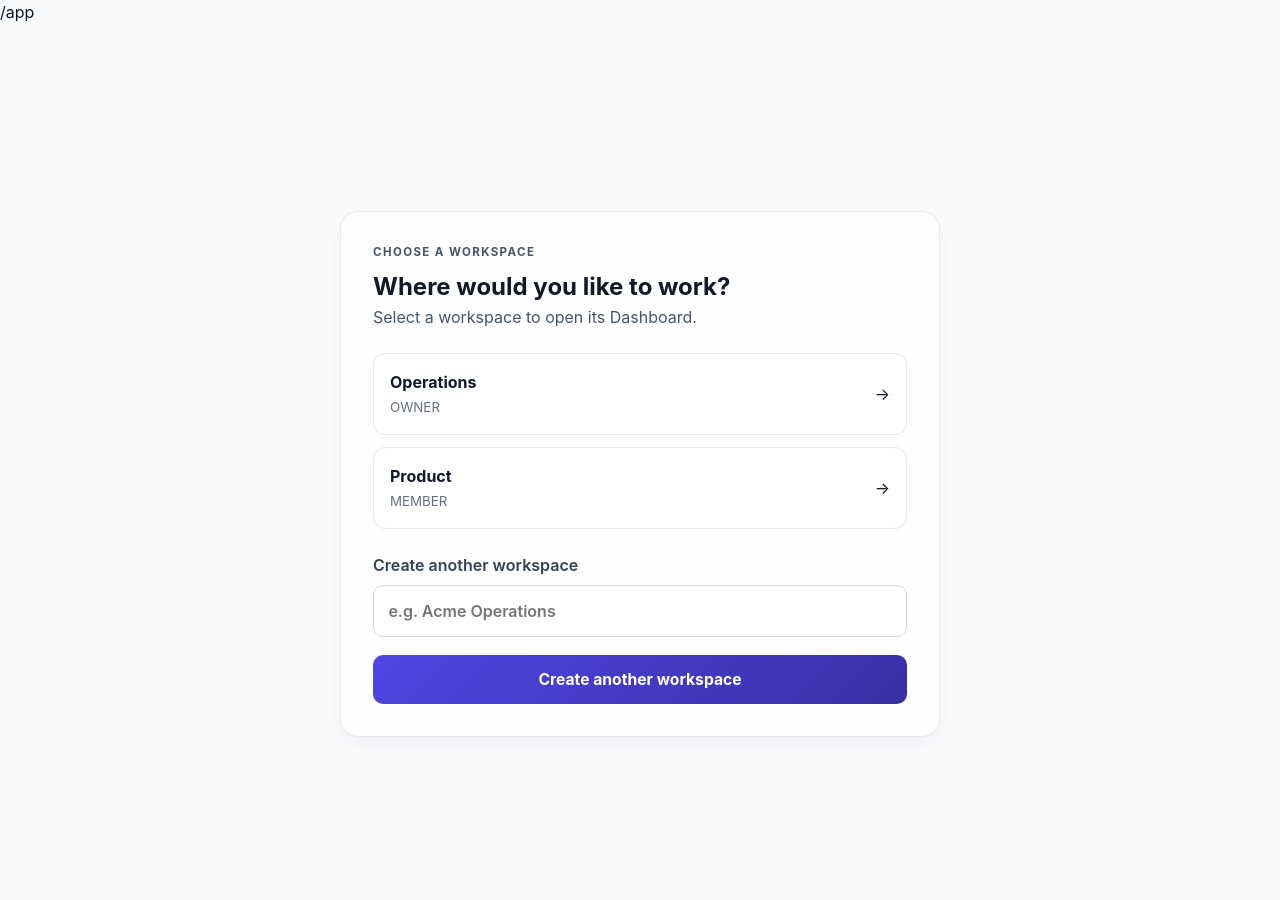
Test case: F2 workspace behavior › allows creating an additional workspace from the selector
This screenshot has width=1280, height=900.
In the field labelled "Create another workspace": (640, 611) [373,585,907,636], type "Additional workspace"
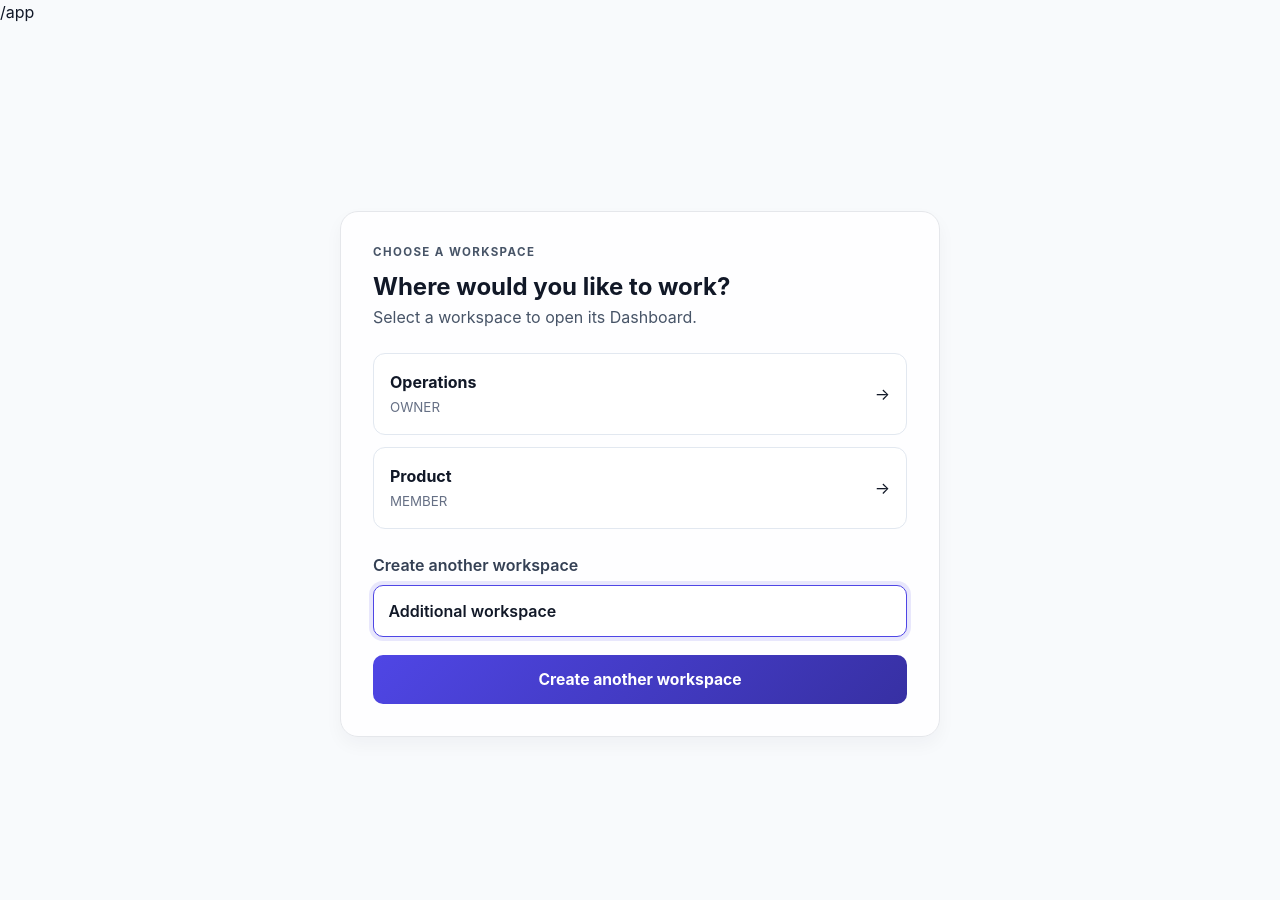
Click the button "Create another workspace": (640, 679) [373,654,907,704]
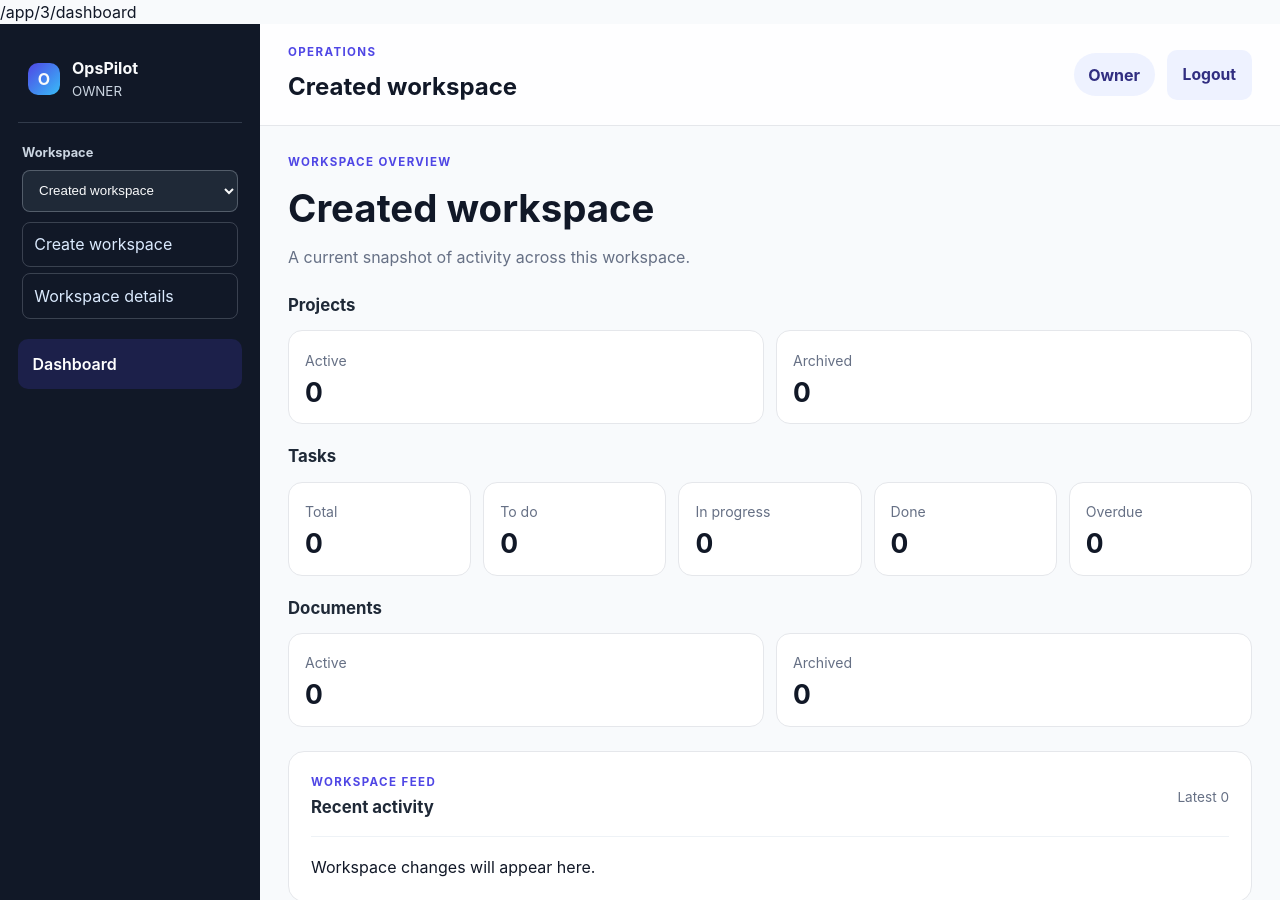
Now the text named "Current route" reads "/app/3/dashboard", box [0,2,136,22]
